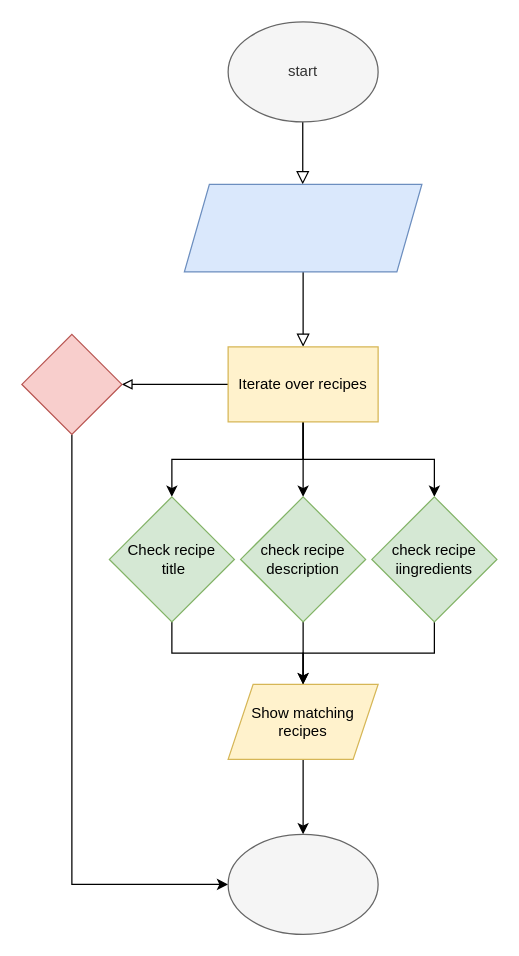
The diagram is 519 pixels wide and 956 high, and some of its shapes have lost their labels. Here are the shapes that lost their labels. From the top down, the centre of each, then its label:
the point at 302,227: Input search Query
the point at 71,383: No match found
the point at 302,883: end
